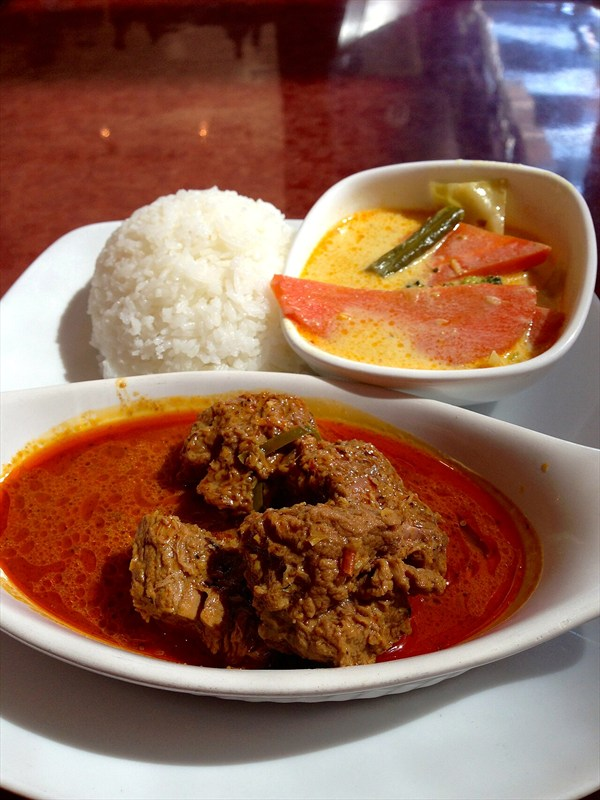Rendang: (31, 165, 527, 701)
